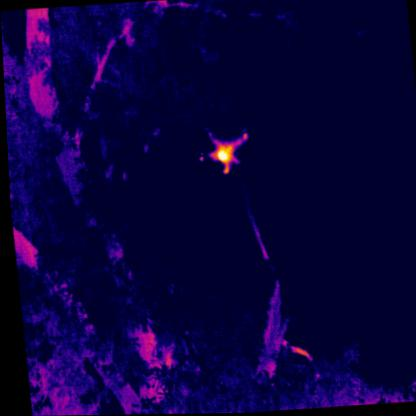drone: (194, 125, 250, 176)
